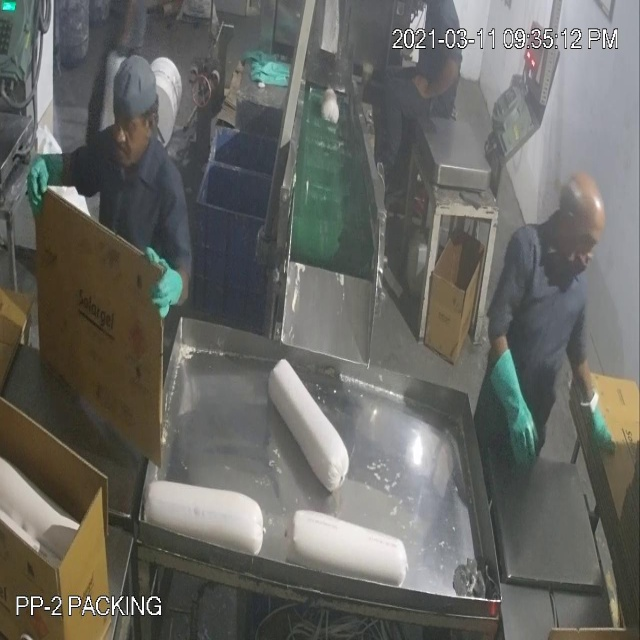Guantes: (487, 340, 541, 473), (577, 375, 624, 466), (142, 237, 186, 326)
Sin_guantes: (412, 51, 466, 111)
